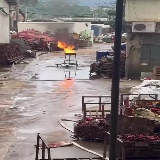fire: (57, 41, 75, 53)
